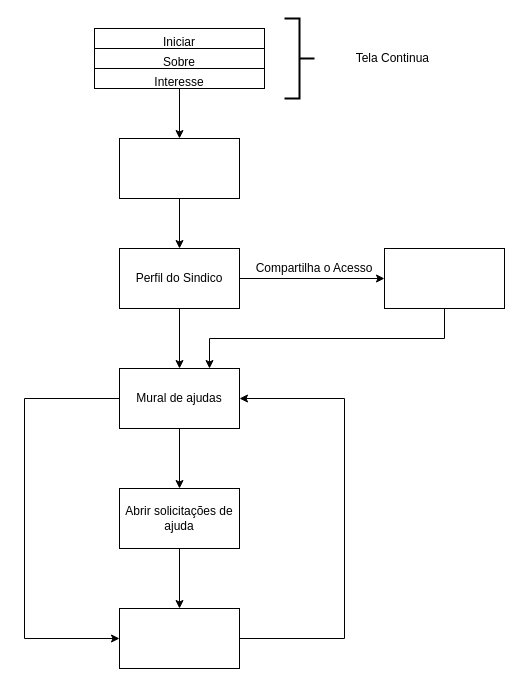
This 522x686 diagram has some shape labels left out. The centre of each missing label's shape, as x and y in pixels:
"Cadastro do Sindico" goes at [179,168].
"Perfil do Apartamento" goes at [444,278].
"Tela de Confirmação" goes at [179,638].
